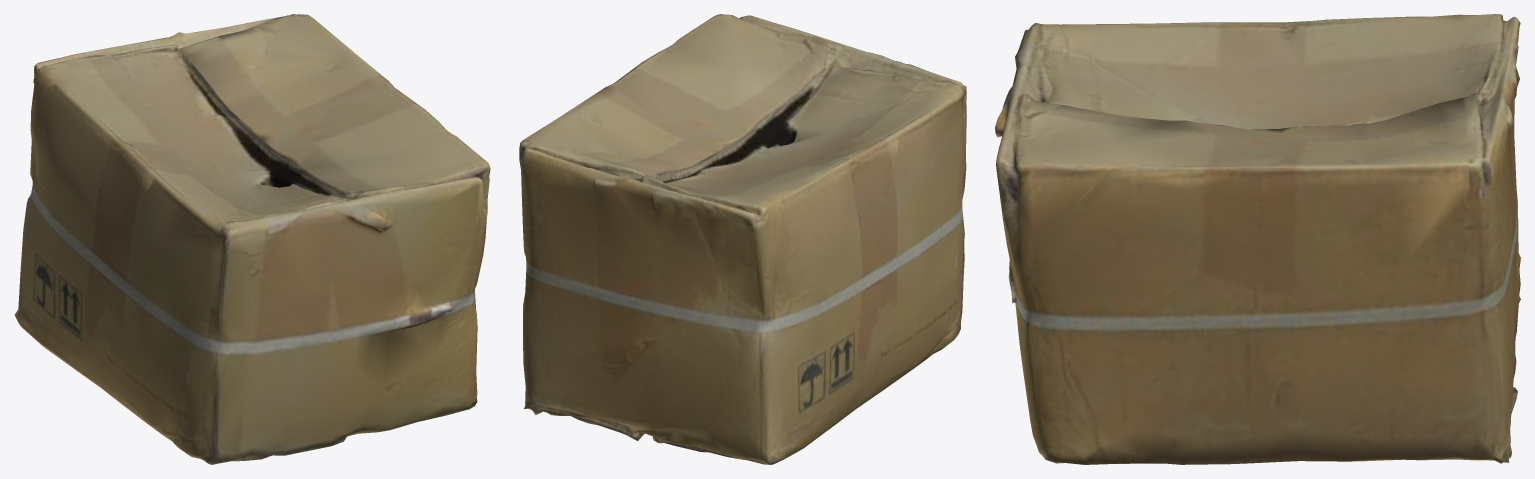
File: cardboard-box-01.glb
3 views of the same model, side by side, from view 1: azimuth 30°, elevation 25°; view 2: azimuth 150°, elevation 25°; view 3: azimuth 270°, elevation 25° (orthographic). The views are drawn at different scales.
Visible parts, largest first — view 1: cardboard_box_01; view 2: cardboard_box_01; view 3: cardboard_box_01.
Part boxes in pixels (left/top/right/bottom): cardboard_box_01: left=14, top=14, right=490, bottom=464; cardboard_box_01: left=519, top=14, right=966, bottom=464; cardboard_box_01: left=995, top=14, right=1520, bottom=464.
Size of the model in its own units: 0.3868 by 0.3418 by 0.5159.
1 material, 1 textured.
